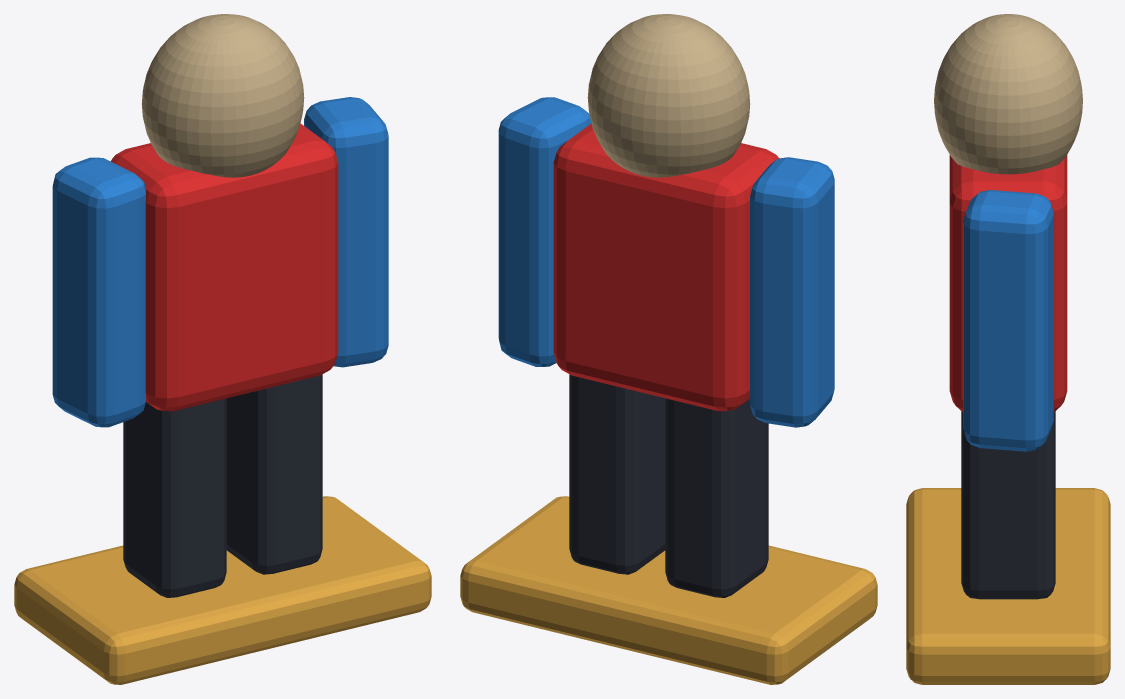
The model's file is figurine-scellee.glb.
The picture shows the model from 3 angles, left to right: view 1: azimuth 30°, elevation 25°; view 2: azimuth 150°, elevation 25°; view 3: azimuth 270°, elevation 25°; orthographic projection.
Parts seen in each view (by area): view 1: Torse, Socle, Bras, Tete, Jambe, Jambe.001, Bras.001; view 2: Torse, Socle, Bras, Tete, Jambe, Jambe.001, Bras.001; view 3: Socle, Bras.001, Tete, Jambe.001, Torse.
Part boxes in pixels (x1,y1,x2,y2): Torse: (110, 123, 338, 411); Socle: (14, 496, 431, 684); Bras: (52, 157, 145, 427); Tete: (141, 14, 304, 177); Jambe: (123, 398, 226, 597); Jambe.001: (226, 374, 322, 574); Bras.001: (304, 97, 388, 367); Torse: (553, 123, 779, 411); Socle: (460, 496, 877, 684); Bras: (750, 157, 834, 427); Tete: (587, 14, 750, 177); Jambe: (665, 398, 768, 597); Jambe.001: (569, 374, 665, 574); Bras.001: (498, 97, 591, 366); Socle: (906, 488, 1110, 684); Bras.001: (963, 190, 1053, 451); Tete: (934, 14, 1082, 174); Jambe.001: (961, 411, 1055, 599); Torse: (949, 155, 1067, 411).
Bounding box in the file's own units: 1.9 × 3.32 × 1.04.
